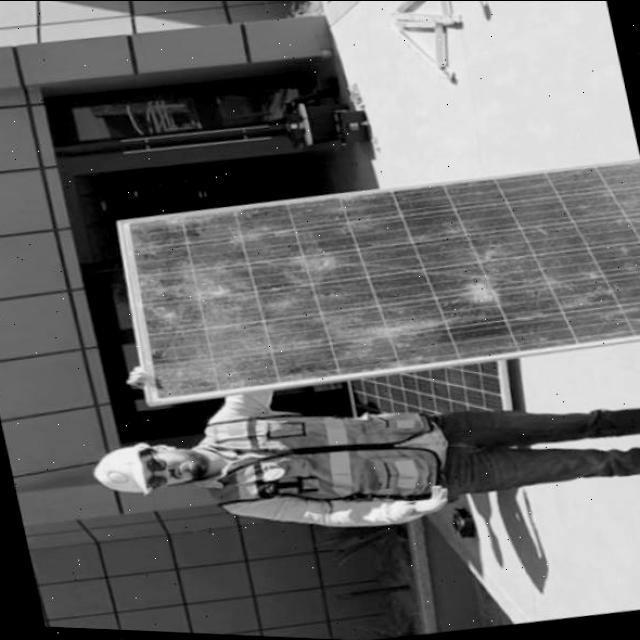Normal Solar Panel: (350, 356, 522, 435)
